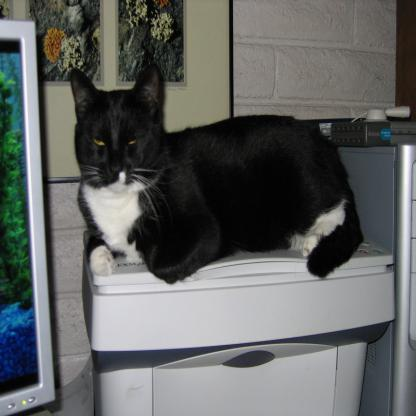Dog: (63, 67, 364, 269)
